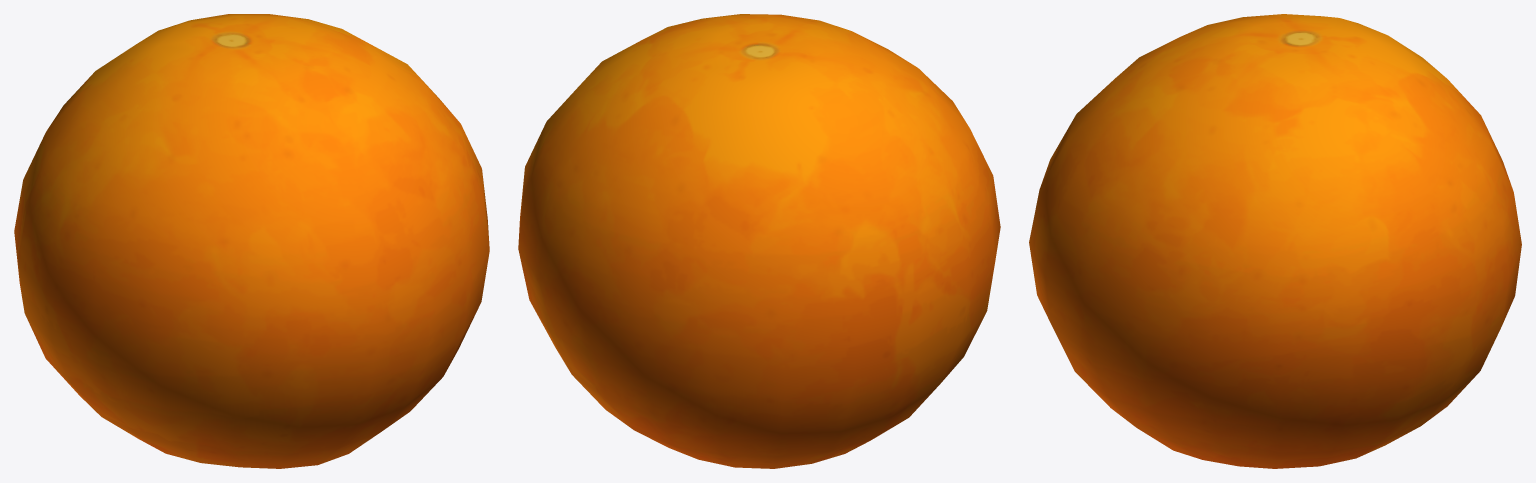
The model's file is SM_TangerineA.fbx.
3 renders of one model, left to right at view 1: azimuth 30°, elevation 25°; view 2: azimuth 150°, elevation 25°; view 3: azimuth 270°, elevation 25°, orthographic.
Parts seen in each view (by area): view 1: SM_TangerineA; view 2: SM_TangerineA; view 3: SM_TangerineA.
Part boxes in pixels (x1,y1,x2,y2): SM_TangerineA: [14, 14, 489, 468]; SM_TangerineA: [518, 14, 1000, 468]; SM_TangerineA: [1029, 14, 1521, 468].
Size of the model in its own units: 11.02 by 9.97 by 11.07.
